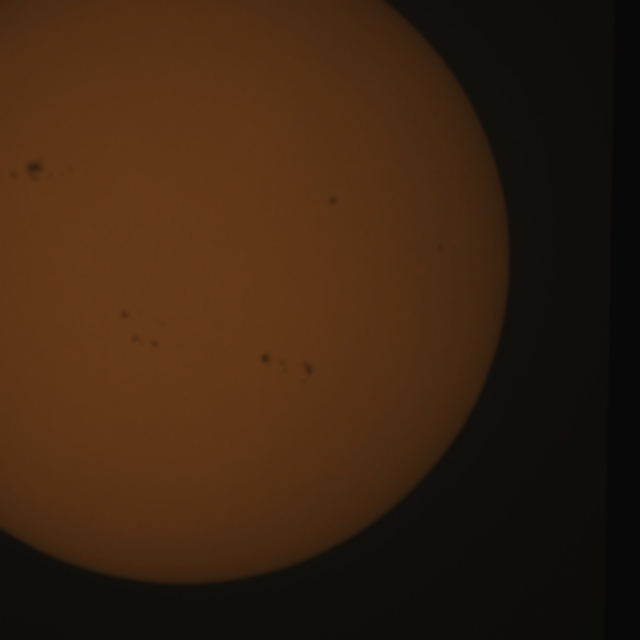sunspot: (272, 355, 316, 386), (7, 159, 48, 186), (259, 351, 289, 376), (129, 332, 161, 352), (298, 358, 316, 386), (118, 308, 143, 324), (258, 351, 272, 368), (326, 193, 339, 208)
